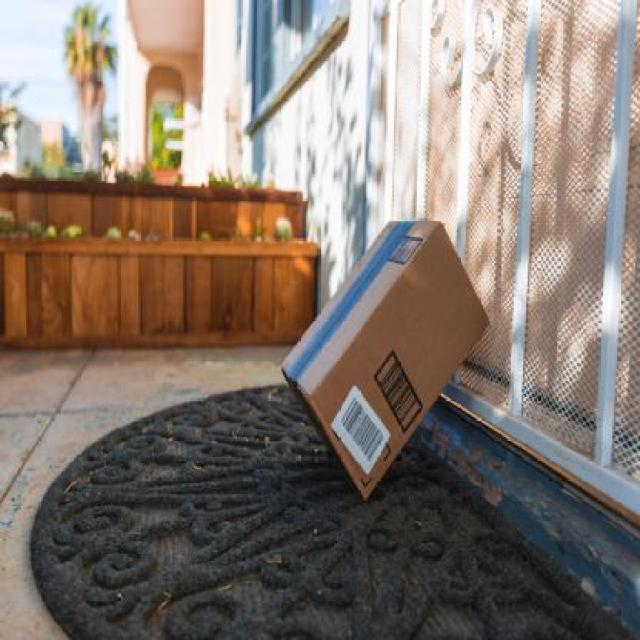cardboxes: (275, 207, 504, 517)
